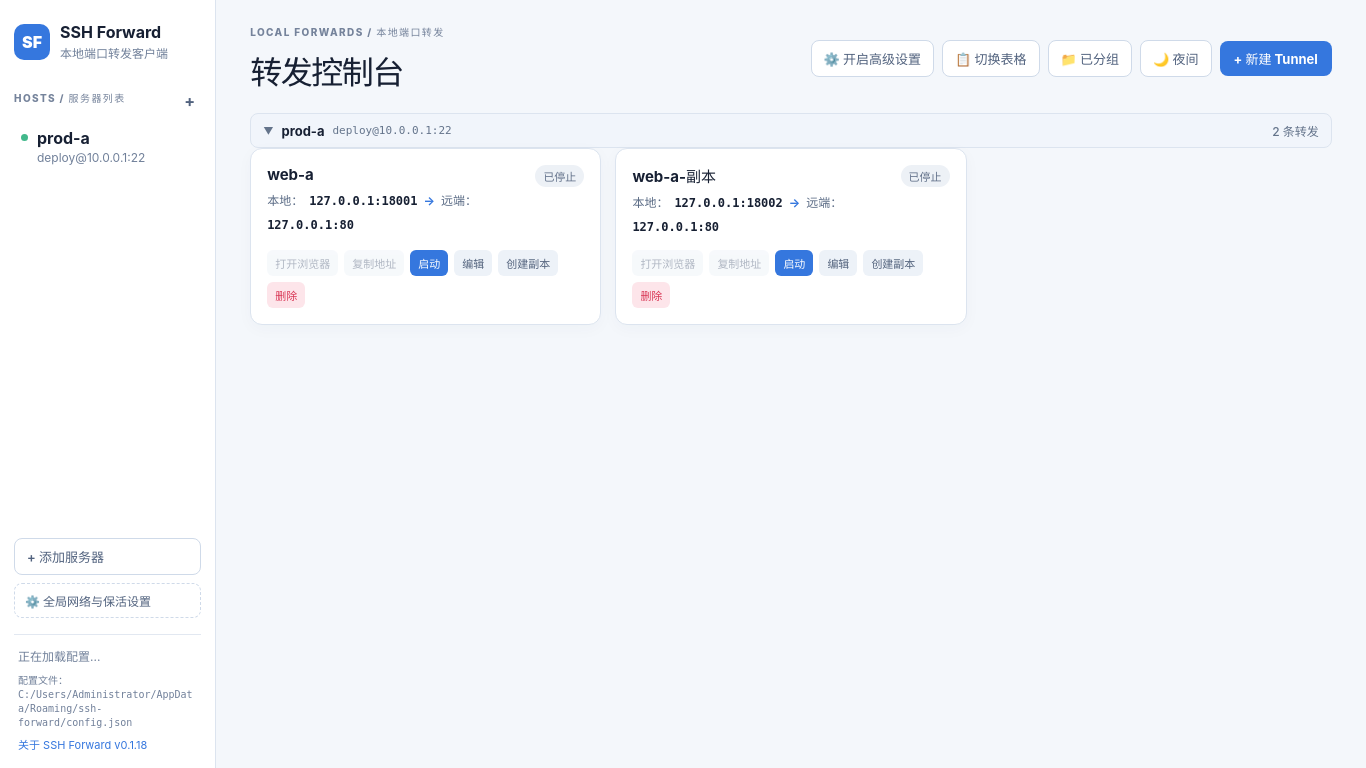
it: 创建副本 › 以「新建」打开表单，且名称自动去重
This screenshot has width=1366, height=768.
Check: the text "prod-a" below "HOSTS / 服务器列表" is shown, box [37,128,90,148]
What coordinates should you click on to do the following:
click the button "创建副本" below "18001"
I would click on:
 (528, 263)
Its box is [498,250,558,276].
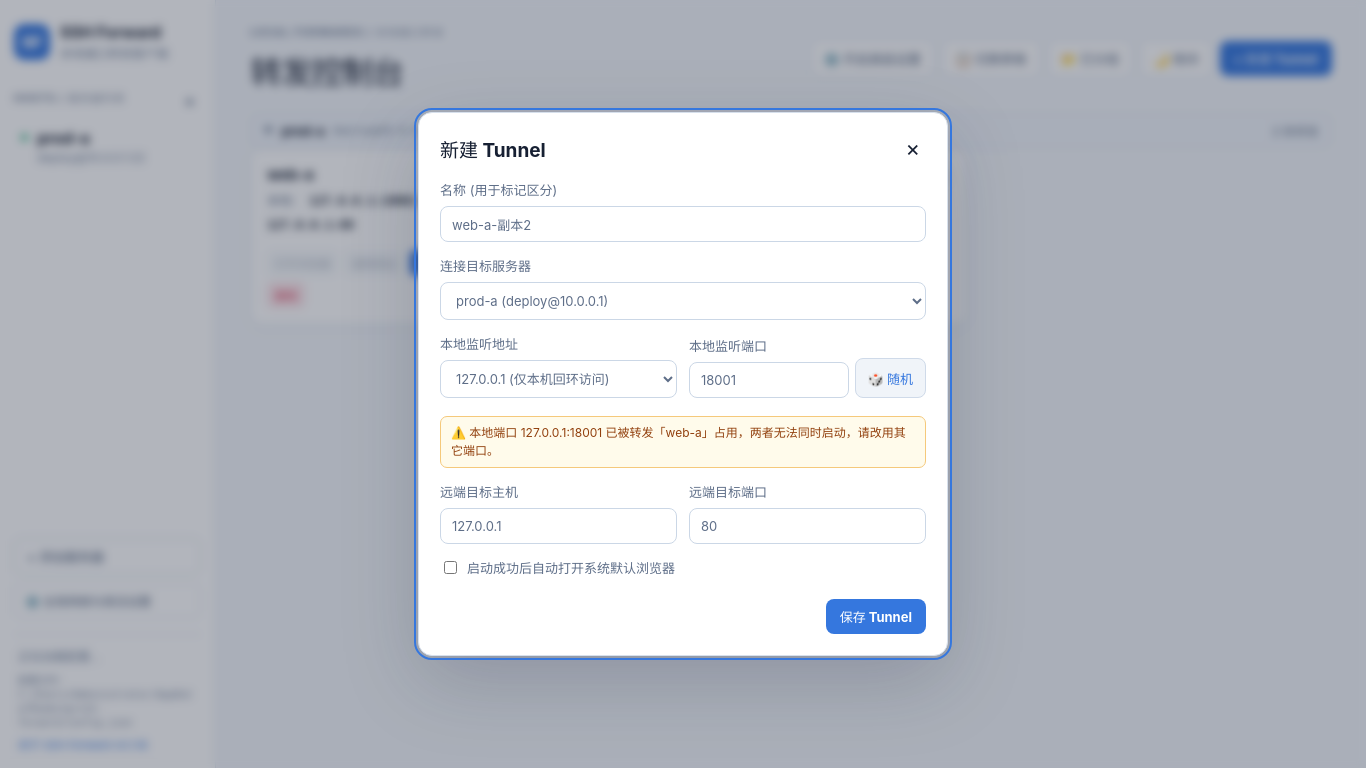
Check: the dialog "新建 Tunnel" is shown, box [418,112,948,656]
Check: the field labelled "名称 (用于标记区分)" holds "web-a-副本2", box [440,206,926,242]
